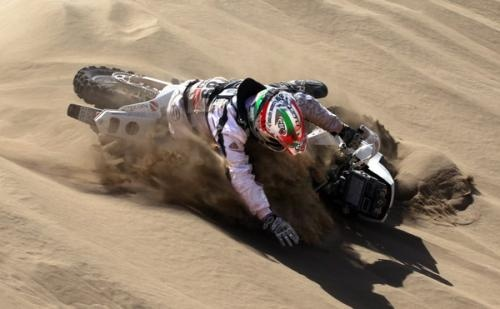falling: (84, 64, 412, 249)
